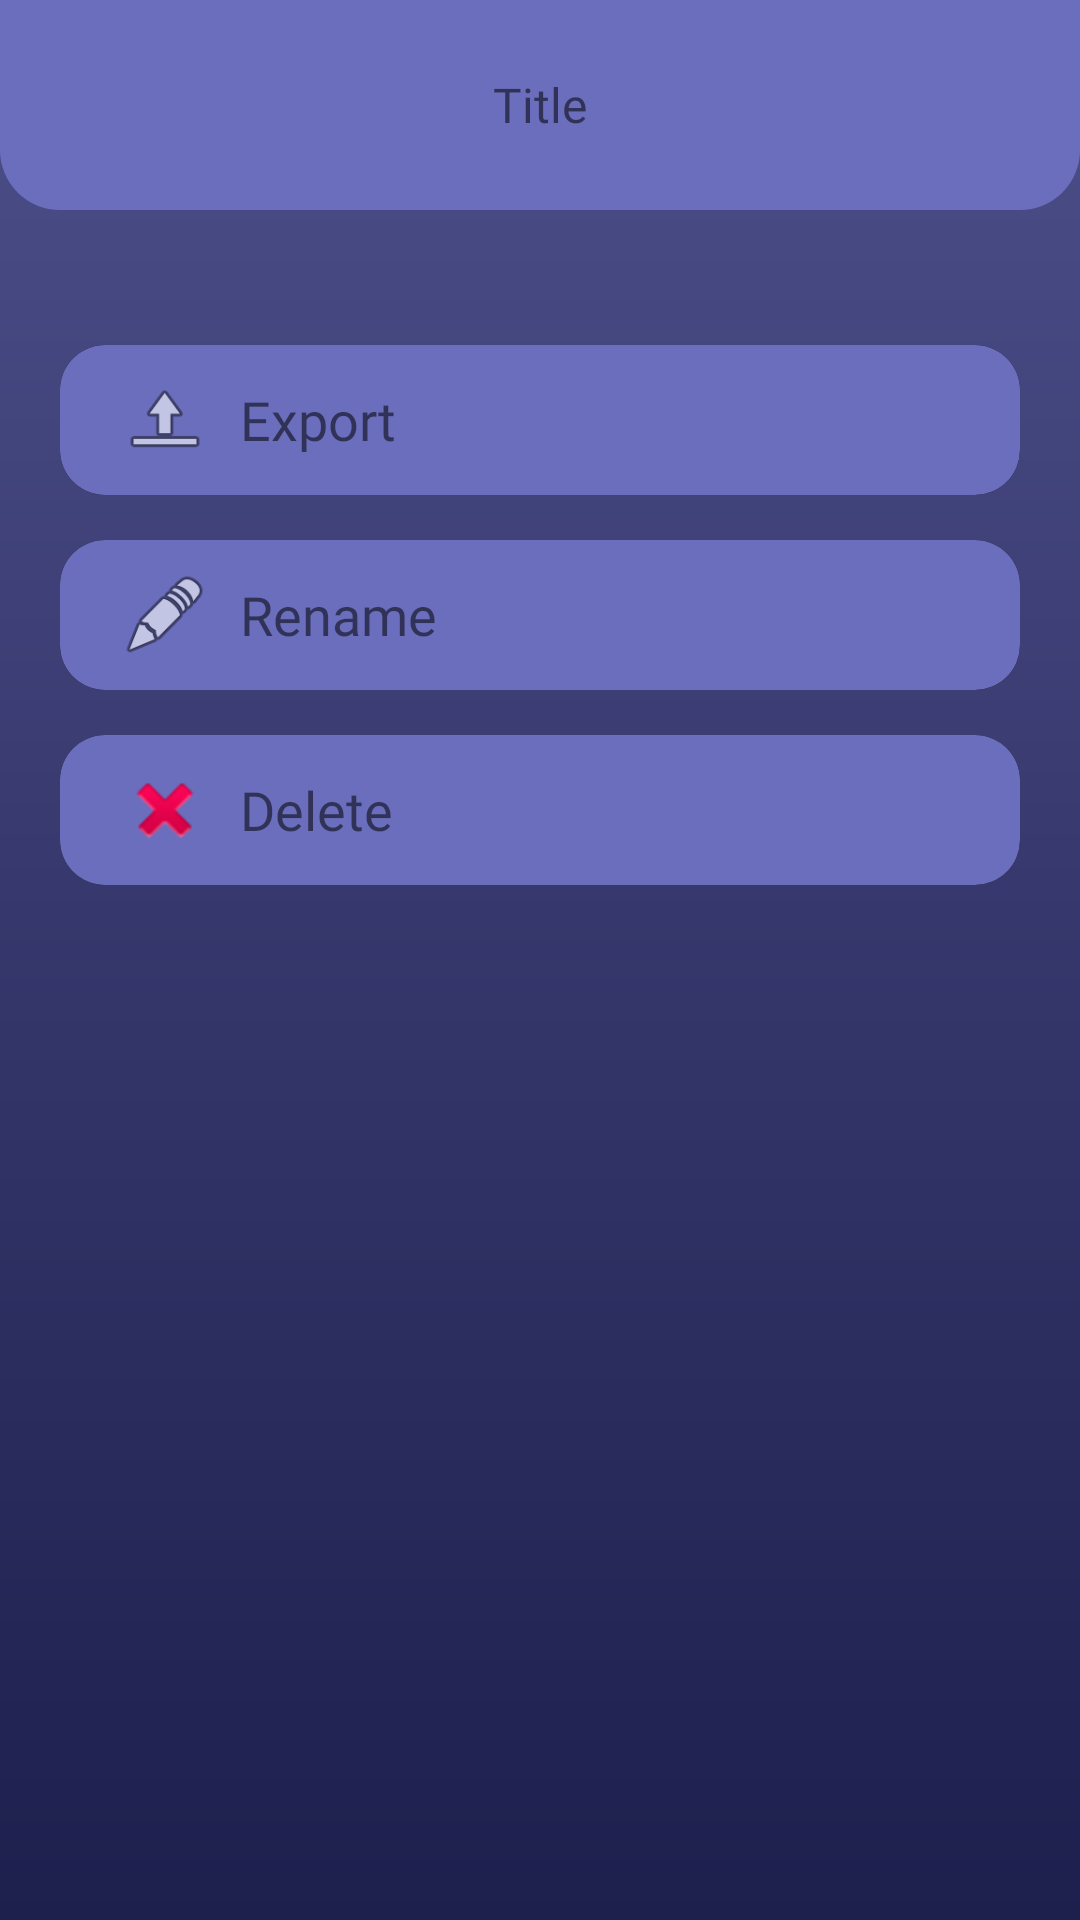

Screen size 1080 × 1920. Icon name, then its box in pixels as bbox=(x1, y1, x2, y2):
edit: bbox=(127, 576, 203, 652)
upload: bbox=(130, 390, 200, 447)
